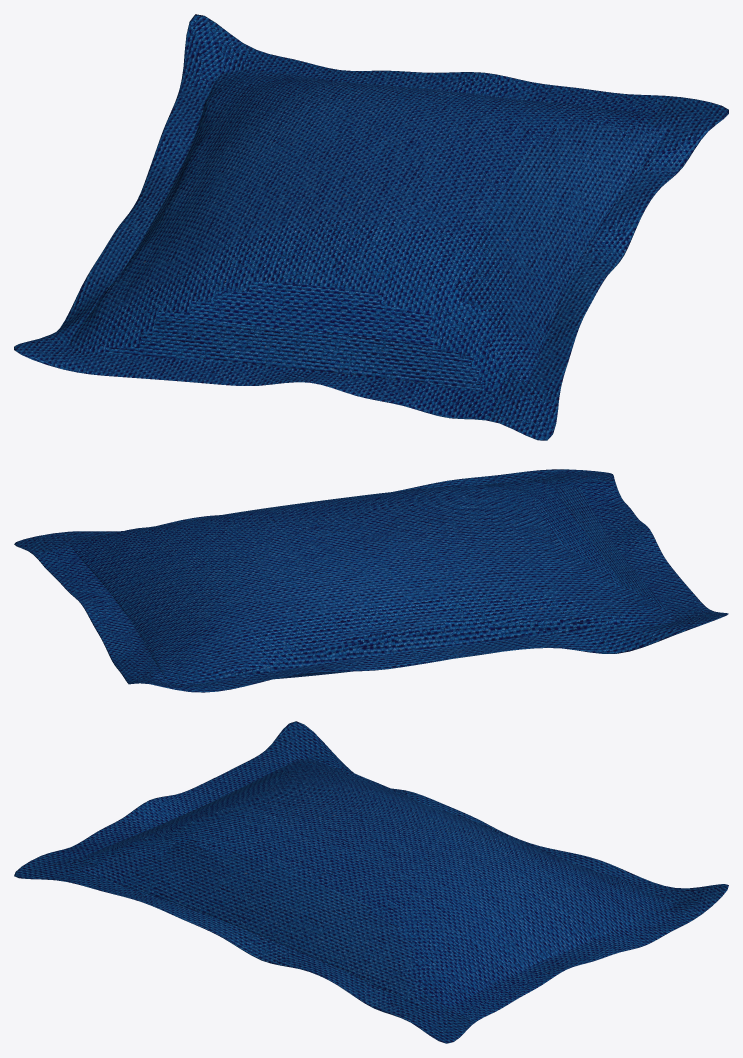
File: puebla_chico.gltf
3 renders of one model, top to bottom at view 1: azimuth 30°, elevation 25°; view 2: azimuth 150°, elevation 25°; view 3: azimuth 270°, elevation 25°, orthographic. The views are drawn at different scales.
Visible parts, largest first — view 1: main; view 2: main; view 3: main.
Boxes of the visible parts, bbox=[...] form: main: bbox=[14, 14, 728, 440]; main: bbox=[14, 469, 728, 692]; main: bbox=[14, 721, 728, 1043].
Size of the model in its own units: 7.64 by 1.24 by 7.72.
1 material, 1 textured.
